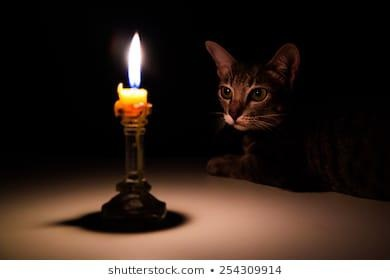fire: (122, 29, 145, 87)
